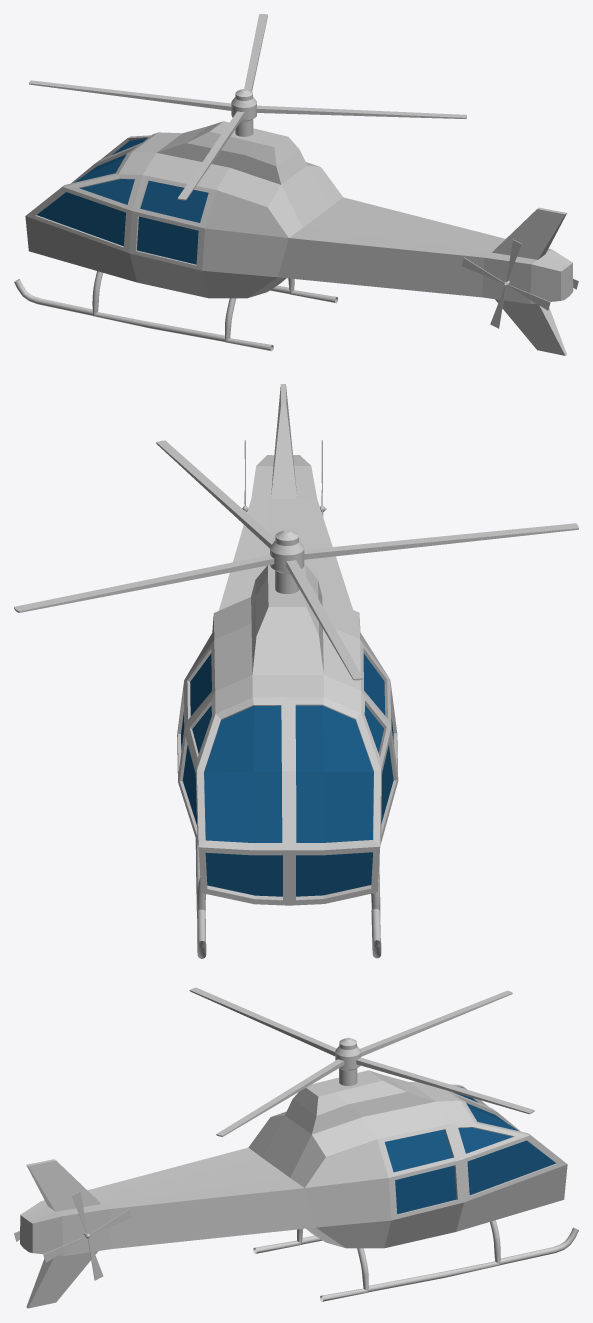
File: helicopter_animation_000137.obj
3 renders of one model, top to bottom at view 1: azimuth 30°, elevation 25°; view 2: azimuth 150°, elevation 25°; view 3: azimuth 270°, elevation 25°, orthographic. The views are drawn at different scales.
Visible parts, largest first — view 1: Helicopter.007_Cylinder.008, Helicopter.001_Cylinder.001, Helicopter.003_Cylinder.004; view 2: Helicopter.007_Cylinder.008, Helicopter.001_Cylinder.001; view 3: Helicopter.007_Cylinder.008, Helicopter.001_Cylinder.001, Helicopter.004_Cylinder.005.
Boxes of the visible parts, left/top/right/bottom form: Helicopter.007_Cylinder.008: left=14, top=121, right=573, bottom=355; Helicopter.001_Cylinder.001: left=29, top=14, right=466, bottom=200; Helicopter.003_Cylinder.004: left=461, top=239, right=550, bottom=328; Helicopter.007_Cylinder.008: left=177, top=384, right=398, bottom=958; Helicopter.001_Cylinder.001: left=14, top=440, right=578, bottom=680; Helicopter.007_Cylinder.008: left=20, top=1070, right=578, bottom=1308; Helicopter.001_Cylinder.001: left=189, top=987, right=534, bottom=1136; Helicopter.004_Cylinder.005: left=43, top=1191, right=131, bottom=1280.
Size of the model in its own units: 4.82 by 3.2 by 7.03.
